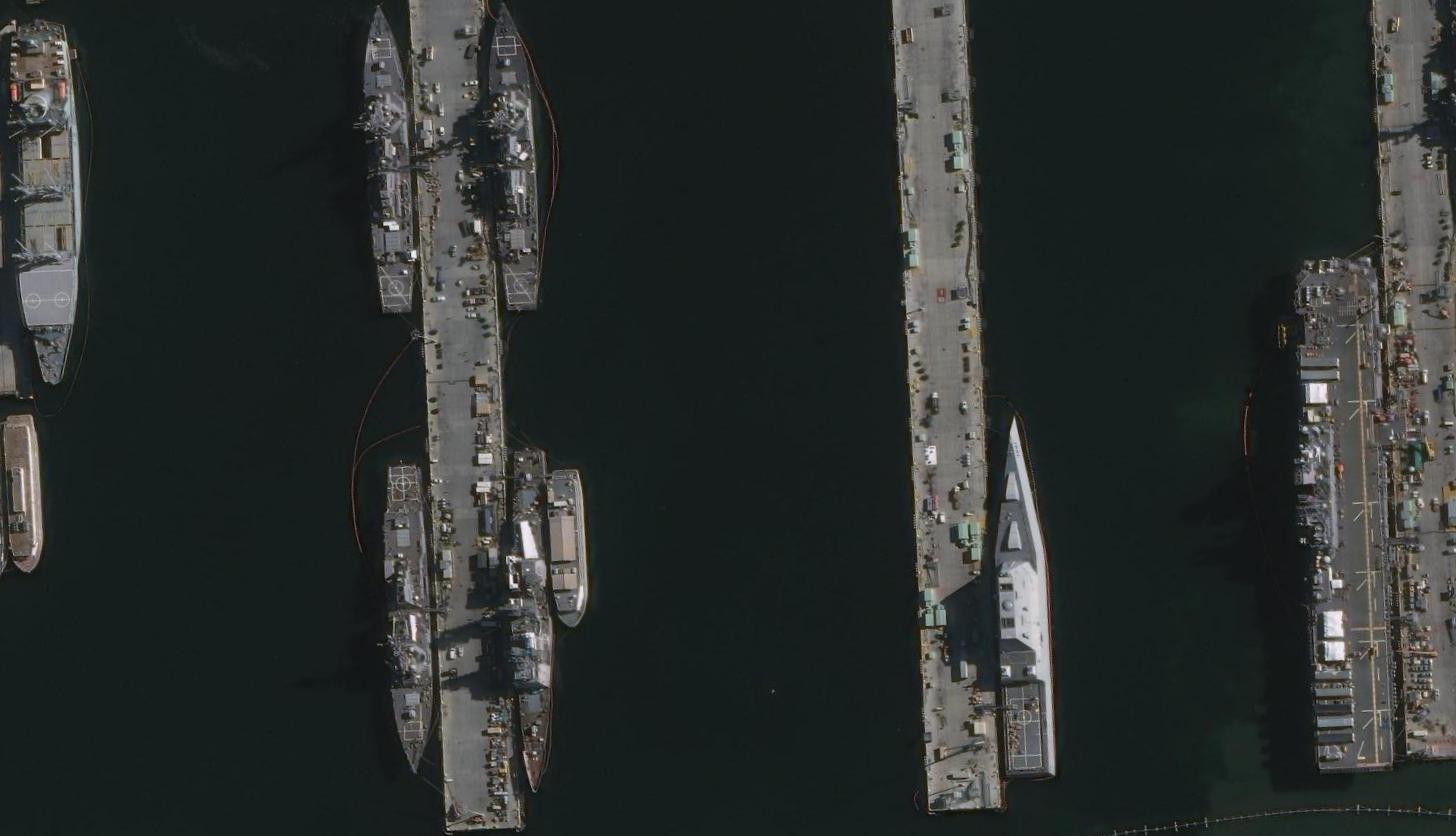fregate: (376, 452, 448, 792), (359, 1, 431, 320), (478, 3, 534, 317)
pha: (1275, 235, 1407, 783)
supply: (6, 8, 92, 404)
